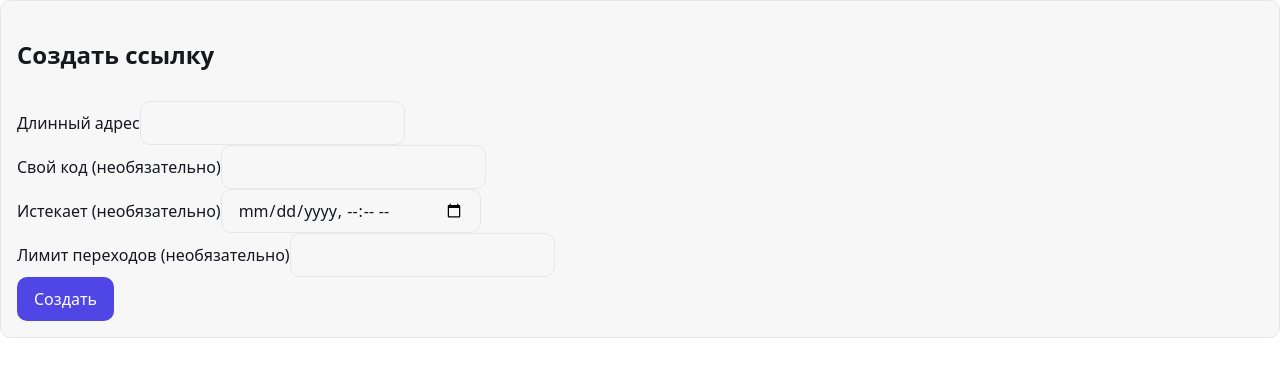
Scenario: LinkForm › 400 с префиксом url кладёт локализованный текст под инпут url
Type "ftp://example.com" into the field labelled "Длинный адрес" at {"x": 272, "y": 123}, box [140, 101, 405, 145]
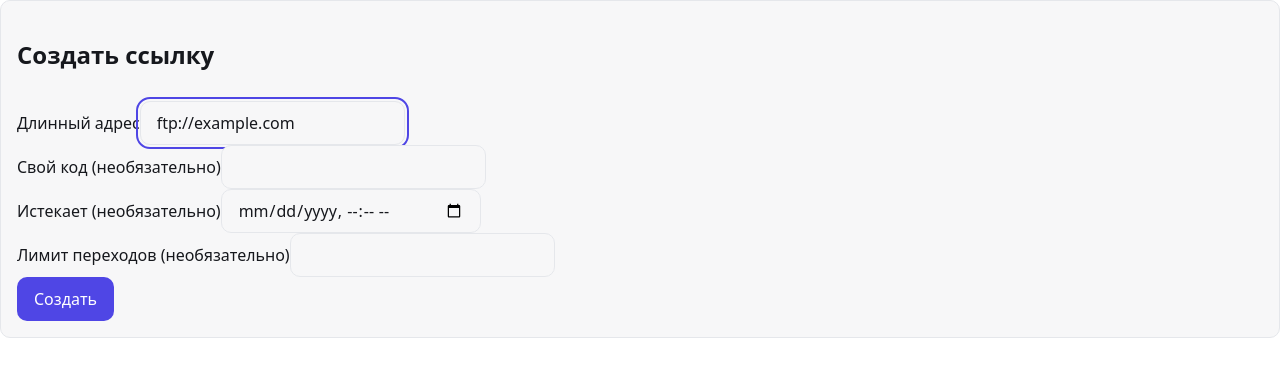
Click the button "Создать" at {"x": 66, "y": 299}, box [17, 277, 114, 321]
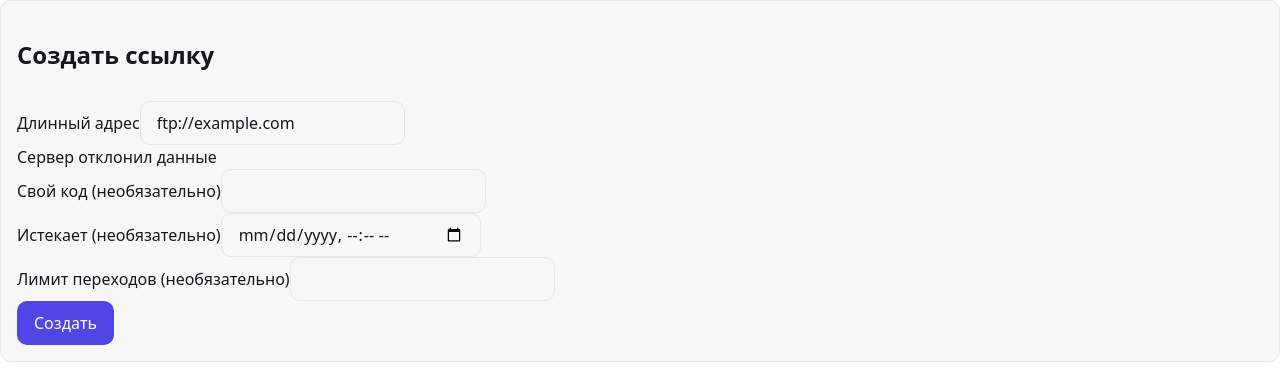
Result: the text "Сервер отклонил данные" is shown at [17, 146, 217, 168]
